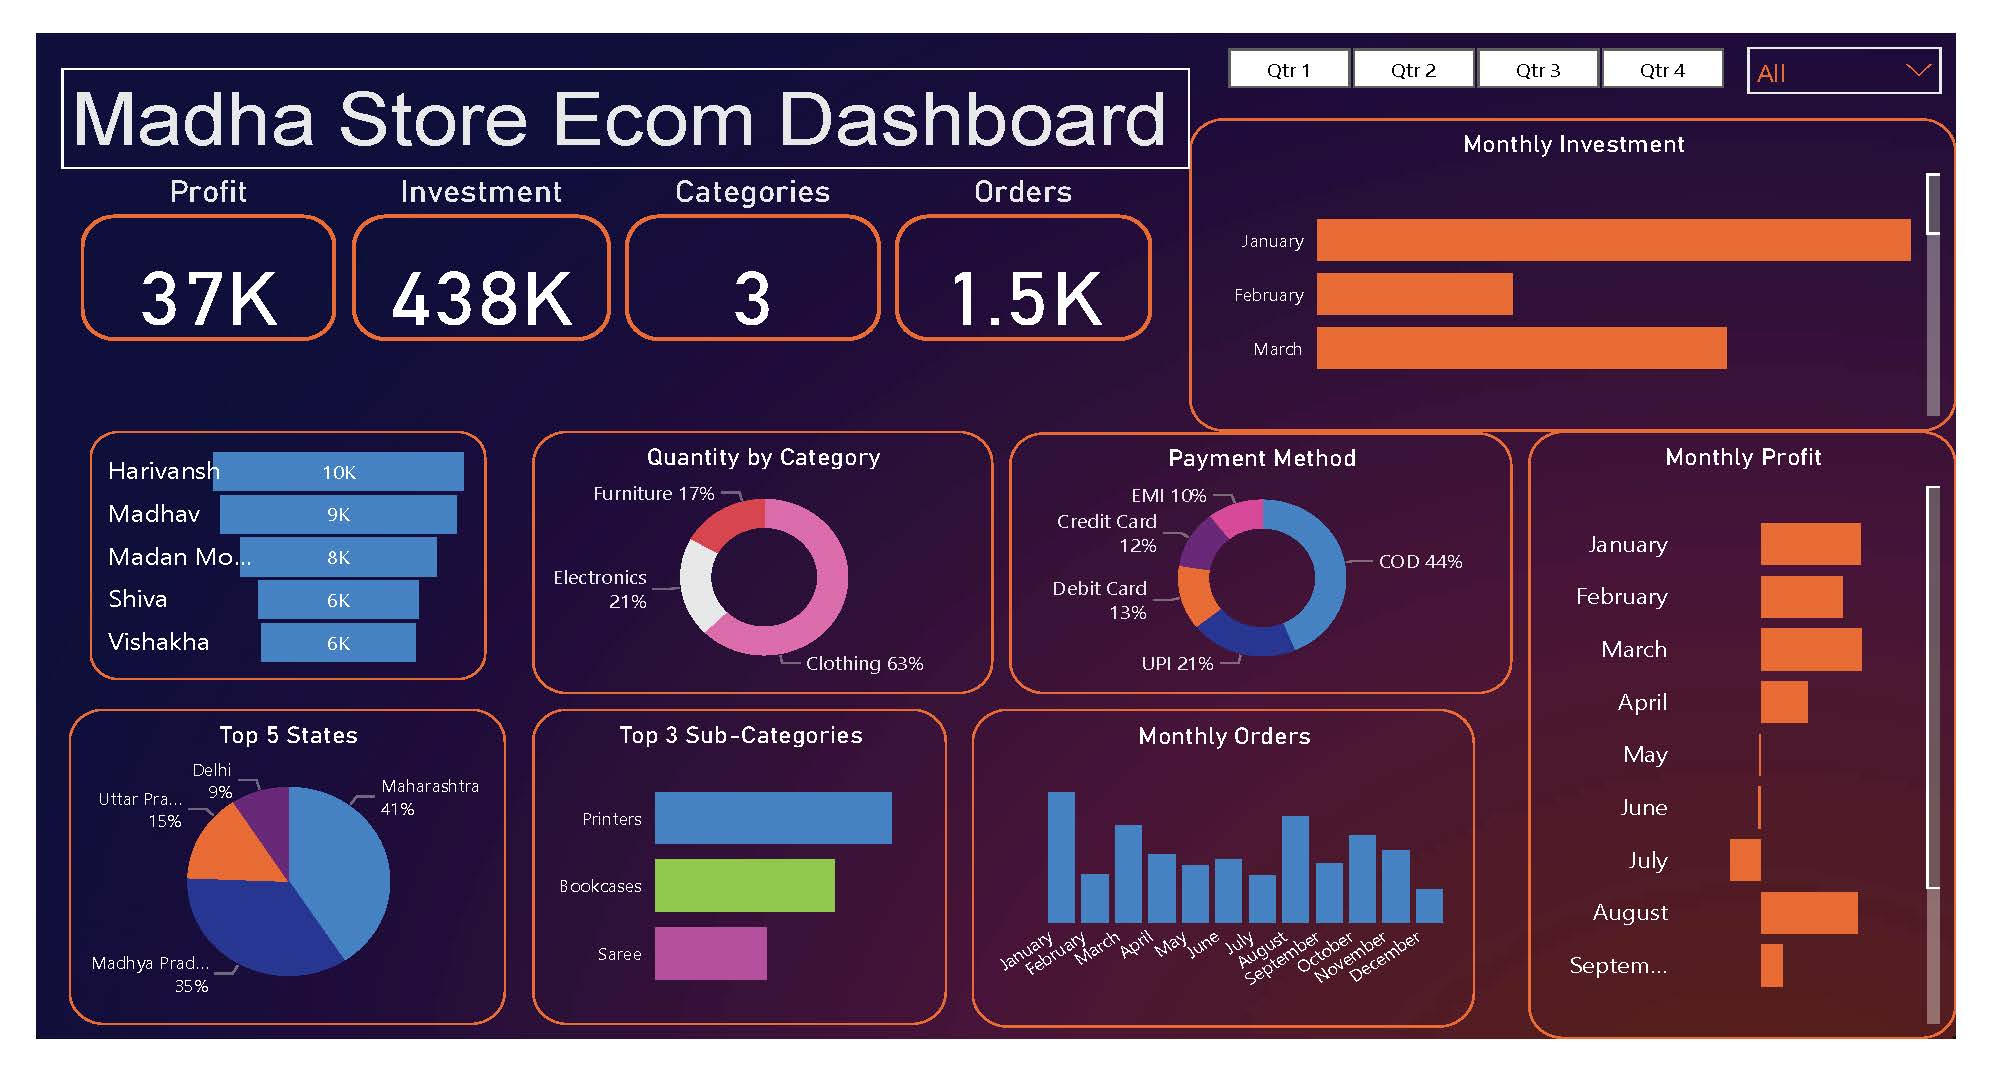

What the dashboard file says about the page in this screenshot:
{"tool":"powerbi","page":{"name":"Page 1","canvas":[1280,720],"ordinal":0},"visuals":[{"type":"cardVisual","title":"Profit","fields":{"Data":["Details.Profit"]},"box":[25,101.5,180,124],"z":0},{"type":"cardVisual","title":"Investment","fields":{"Data":["Details.Amount"]},"box":[205.7,101.5,182.1,123.7],"z":1000},{"type":"cardVisual","title":"Orders","fields":{"Data":["Details.Order ID"]},"box":[568.5,101.5,180.7,123.7],"z":2000},{"type":"cardVisual","title":"Categories","fields":{"Data":["Details.Category"]},"box":[387.8,101.5,180.7,123.7],"z":3000},{"type":"donutChart","title":"Quantity by Category","fields":{"Category":["Details.Category"],"Y":["Details.Quantity"]},"box":[330.8,284.9,307.2,187.6],"z":4000},{"type":"barChart","title":"Monthly Profit","fields":{"Category":["Orders.Order Date.Variation.Date Hierarchy.Month"],"Y":["Details.Profit"]},"box":[995.2,284.9,284.9,435.1],"z":5000},{"type":"barChart","title":"Monthly Investment","fields":{"Category":["Orders.Order Date.Variation.Date Hierarchy.Month"],"Y":["Details.Amount"]},"box":[768.6,61.2,511.5,223.8],"z":6000},{"type":"barChart","title":"Top 3 Sub-Categories","fields":{"Category":["Details.Sub-Category"],"Y":["Details.Profit"]},"box":[330.8,483.7,276.6,226.6],"z":7000},{"type":"pieChart","title":"Payment Method","fields":{"Category":["Details.PaymentMode"],"Y":["Details.Quantity"]},"box":[649.1,286.3,335,186.3],"z":8000},{"type":"textbox","box":[16.7,25,752,72.3],"z":9000},{"type":"funnel","title":"scsfsfsfsf","fields":{"Category":["Orders.CustomerName"],"Y":["Details.Amount"]},"box":[36.1,284.9,264.1,177.9],"z":10000},{"type":"pieChart","title":"Top 5 States","fields":{"Category":["Orders.State"],"Y":["Details.Amount"]},"box":[22.2,483.7,290.5,226.6],"z":11000},{"type":"clusteredColumnChart","title":"Monthly Orders","fields":{"Category":["Orders.Order Date.Variation.Date Hierarchy.Month"],"Y":["Details.Quantity"]},"box":[624.1,483.7,335,228],"z":12000},{"type":"slicer","fields":{"Values":["Orders.Order Date.Variation.Date Hierarchy.Quarter"]},"box":[768.6,4.2,380.8,41.7],"z":12001},{"type":"slicer","fields":{"Values":["Orders.State"]},"box":[1131.4,0,148.7,55.6],"z":12002}]}

Visuals, with their boxes in screenshot pixels (x1, y1, x2, y2):
"Profit" cardVisual: (left=38, top=144, right=313, bottom=333)
"Investment" cardVisual: (left=314, top=144, right=591, bottom=333)
"Orders" cardVisual: (left=867, top=144, right=1142, bottom=333)
"Categories" cardVisual: (left=591, top=144, right=867, bottom=333)
"Quantity by Category" donutChart: (left=504, top=424, right=973, bottom=710)
"Monthly Profit" barChart: (left=1518, top=424, right=1952, bottom=1071)
"Monthly Investment" barChart: (left=1172, top=83, right=1952, bottom=424)
"Top 3 Sub-Categories" barChart: (left=504, top=727, right=926, bottom=1071)
"Payment Method" pieChart: (left=990, top=426, right=1501, bottom=710)
textbox: (left=25, top=28, right=1172, bottom=138)
"scsfsfsfsf" funnel: (left=55, top=424, right=458, bottom=695)
"Top 5 States" pieChart: (left=34, top=727, right=477, bottom=1071)
"Monthly Orders" clusteredColumnChart: (left=952, top=727, right=1462, bottom=1071)
slicer - Orders.Order Date.Variation.Date Hierarchy.Quarter: (left=1172, top=0, right=1753, bottom=60)
slicer - Orders.State: (left=1725, top=0, right=1952, bottom=74)
